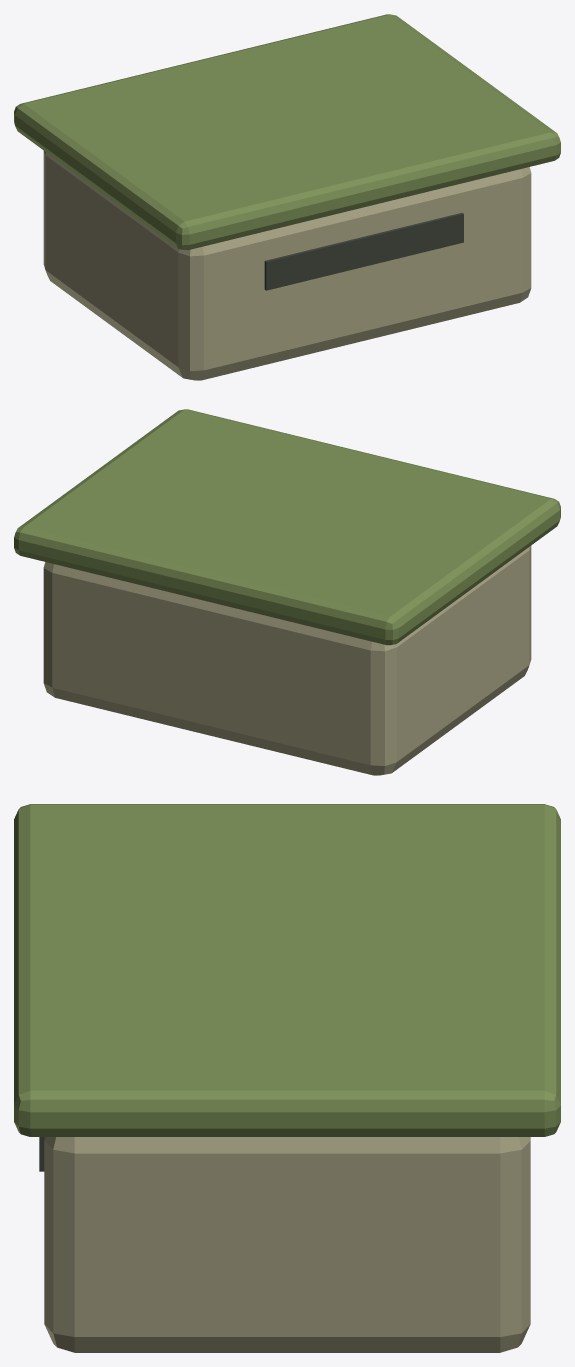
Rendered from bunker.glb.
3 renders of one model, top to bottom at view 1: azimuth 30°, elevation 25°; view 2: azimuth 150°, elevation 25°; view 3: azimuth 270°, elevation 25°, orthographic. The views are drawn at different scales.
Visible parts, largest first — view 1: Bunker roof, Concrete bunker, Firing slit; view 2: Bunker roof, Concrete bunker; view 3: Bunker roof, Concrete bunker.
Boxes of the visible parts, box(x1,y1,x2,y2) form: Bunker roof: box(14, 14, 560, 250); Concrete bunker: box(43, 151, 531, 380); Firing slit: box(264, 213, 463, 290); Bunker roof: box(14, 409, 560, 645); Concrete bunker: box(43, 546, 531, 775); Bunker roof: box(14, 804, 560, 1136); Concrete bunker: box(44, 1137, 530, 1352).
Size of the model in its own units: 3.5 by 1.52 by 2.7.
